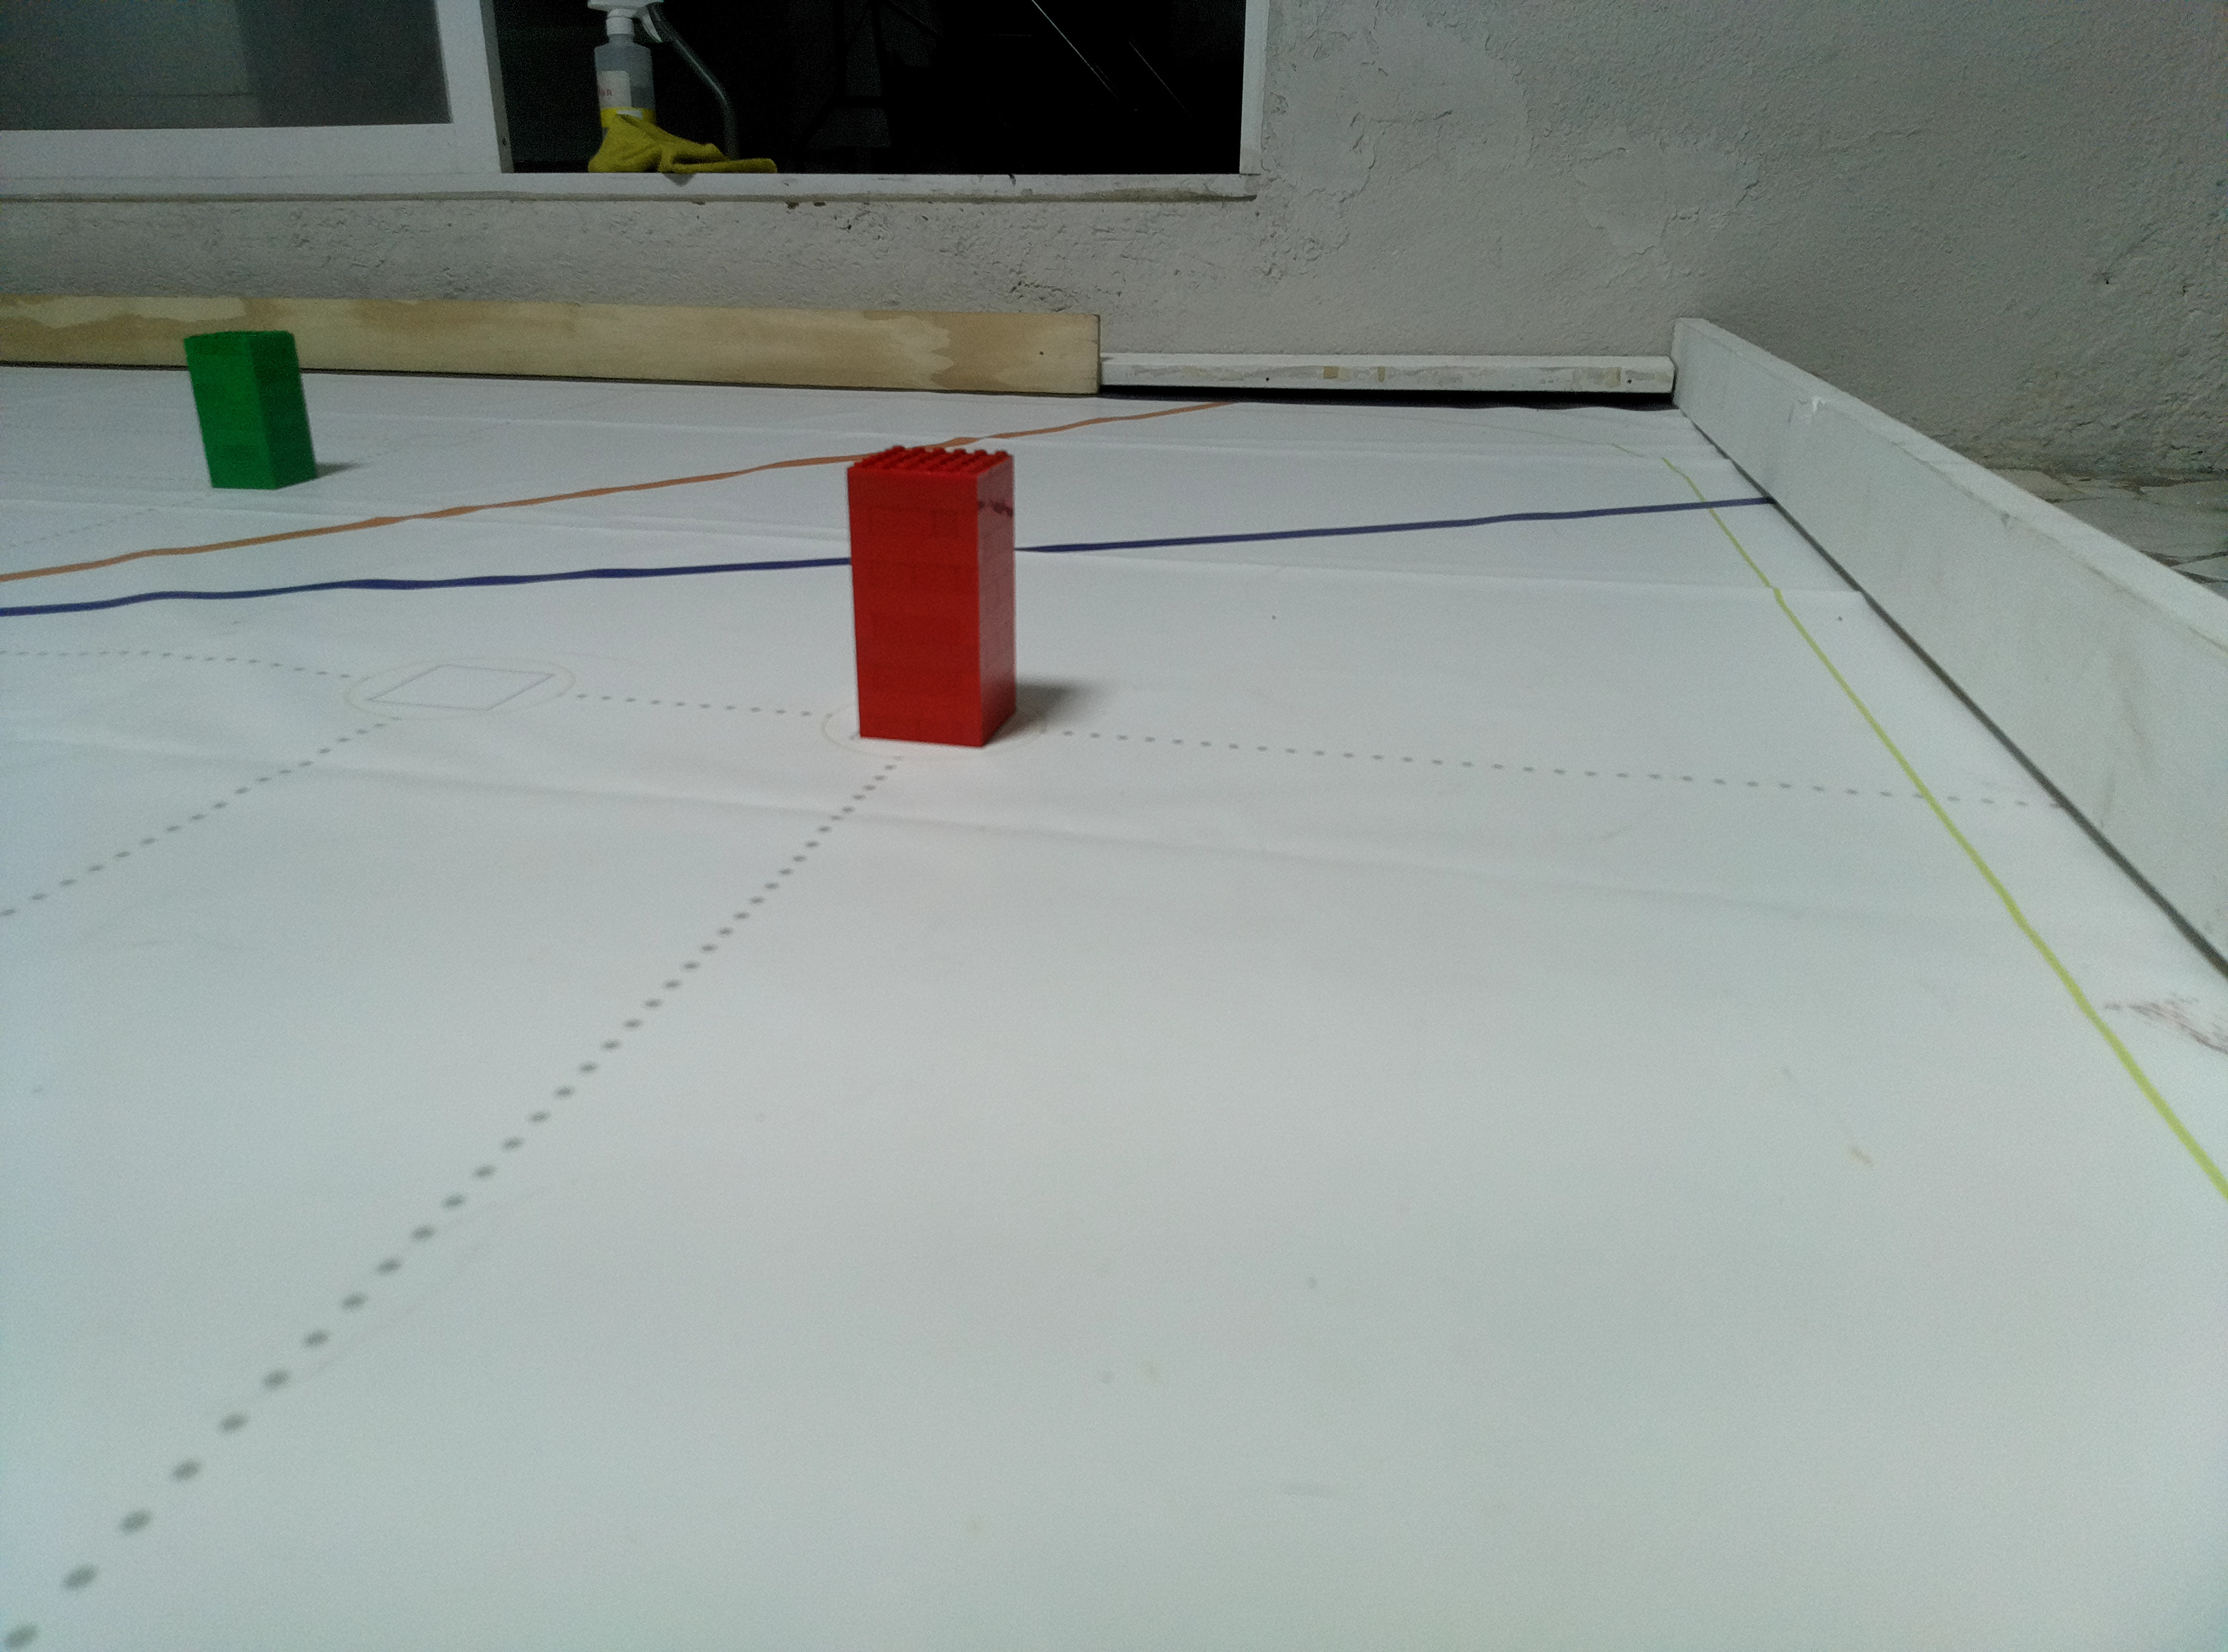greenbox: (179, 331, 321, 493)
redbox: (840, 442, 1022, 751)
